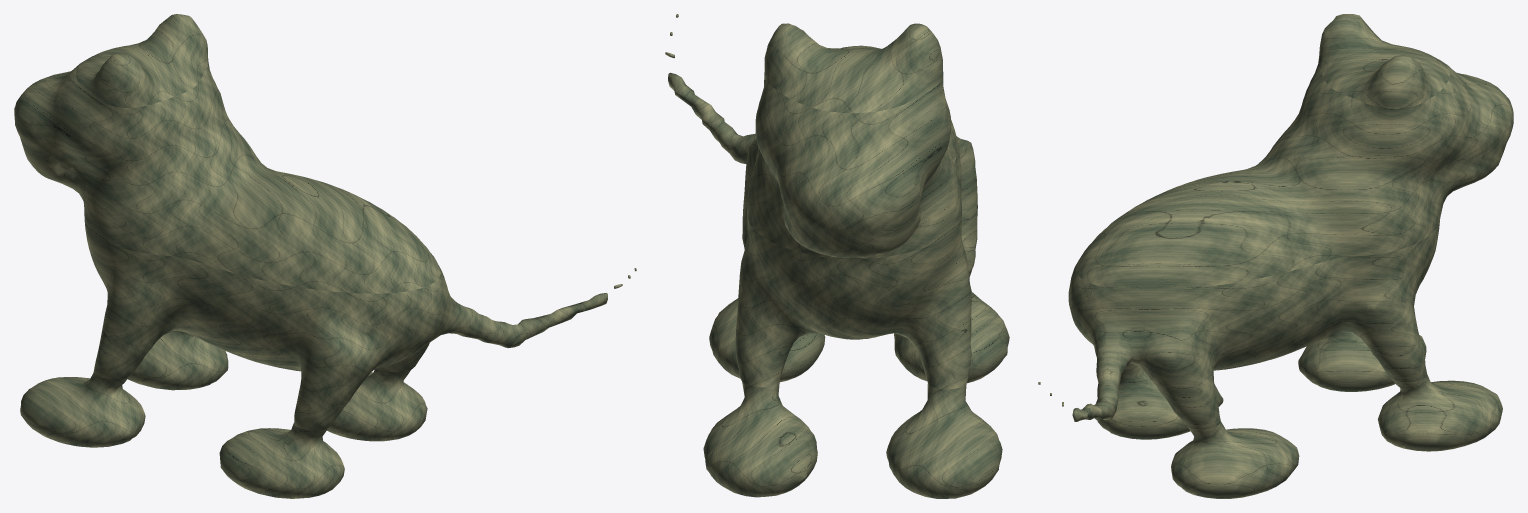
Rendered from Sculpt_DBA_Qilin.fbx.
3 views of the same model, side by side, from view 1: azimuth 30°, elevation 25°; view 2: azimuth 150°, elevation 25°; view 3: azimuth 270°, elevation 25° (orthographic). The views are drawn at different scales.
Parts seen in each view (by area): view 1: Sculpt_DBA_Qilin; view 2: Sculpt_DBA_Qilin; view 3: Sculpt_DBA_Qilin.
Part boxes in pixels (box(x1,y1,x2,y2)): Sculpt_DBA_Qilin: box(14, 14, 636, 498); Sculpt_DBA_Qilin: box(665, 14, 1009, 498); Sculpt_DBA_Qilin: box(1038, 14, 1513, 498).
Size of the model in its own units: 697 by 648 by 577.
Materials: 1 (1 with a texture image).
